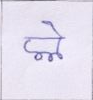o_matra: (52, 23, 64, 60)
